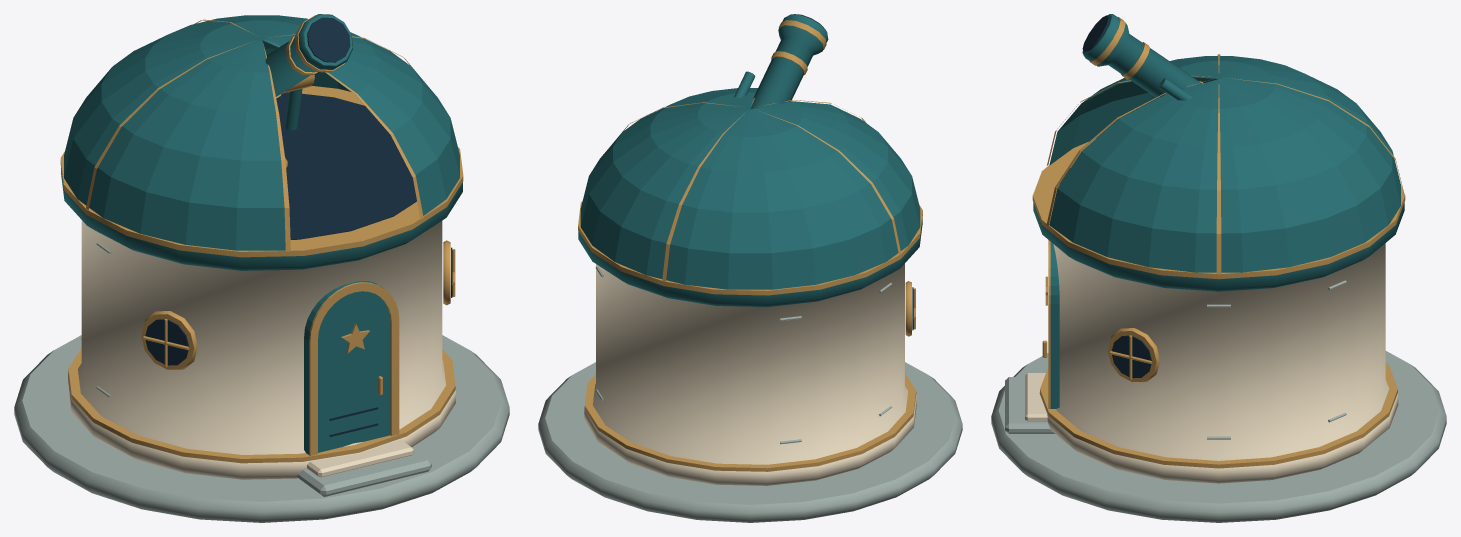
Rendered from sternwarte.glb.
The picture shows the model from 3 angles, left to right: view 1: azimuth 30°, elevation 25°; view 2: azimuth 150°, elevation 25°; view 3: azimuth 270°, elevation 25°; orthographic projection. The views are drawn at different scales.
Parts seen in each view (by area): view 1: sternwarte_petrol, sternwarte_creme, sternwarte_stein, sternwarte_messing, sternwarte_nacht; view 2: sternwarte_petrol, sternwarte_creme, sternwarte_stein, sternwarte_messing; view 3: sternwarte_petrol, sternwarte_creme, sternwarte_stein, sternwarte_messing, sternwarte_nacht.
Part boxes in pixels (<box>): sternwarte_petrol: <box>61,14,462,454</box>; sternwarte_creme: <box>68,220,455,479</box>; sternwarte_stein: <box>14,242,509,522</box>; sternwarte_messing: <box>60,15,463,463</box>; sternwarte_nacht: <box>145,17,452,436</box>; sternwarte_petrol: <box>578,14,922,306</box>; sternwarte_creme: <box>584,263,916,485</box>; sternwarte_stein: <box>538,266,962,522</box>; sternwarte_messing: <box>578,20,922,471</box>; sternwarte_petrol: <box>1033,14,1404,408</box>; sternwarte_creme: <box>1025,243,1398,483</box>; sternwarte_stein: <box>991,280,1446,522</box>; sternwarte_messing: <box>1032,17,1405,468</box>; sternwarte_nacht: <box>1060,15,1152,378</box>.
Bounding box in the file's own units: 5 × 5 × 5.
